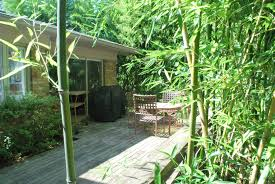bamboo: (184, 56, 275, 181), (113, 2, 273, 51)
